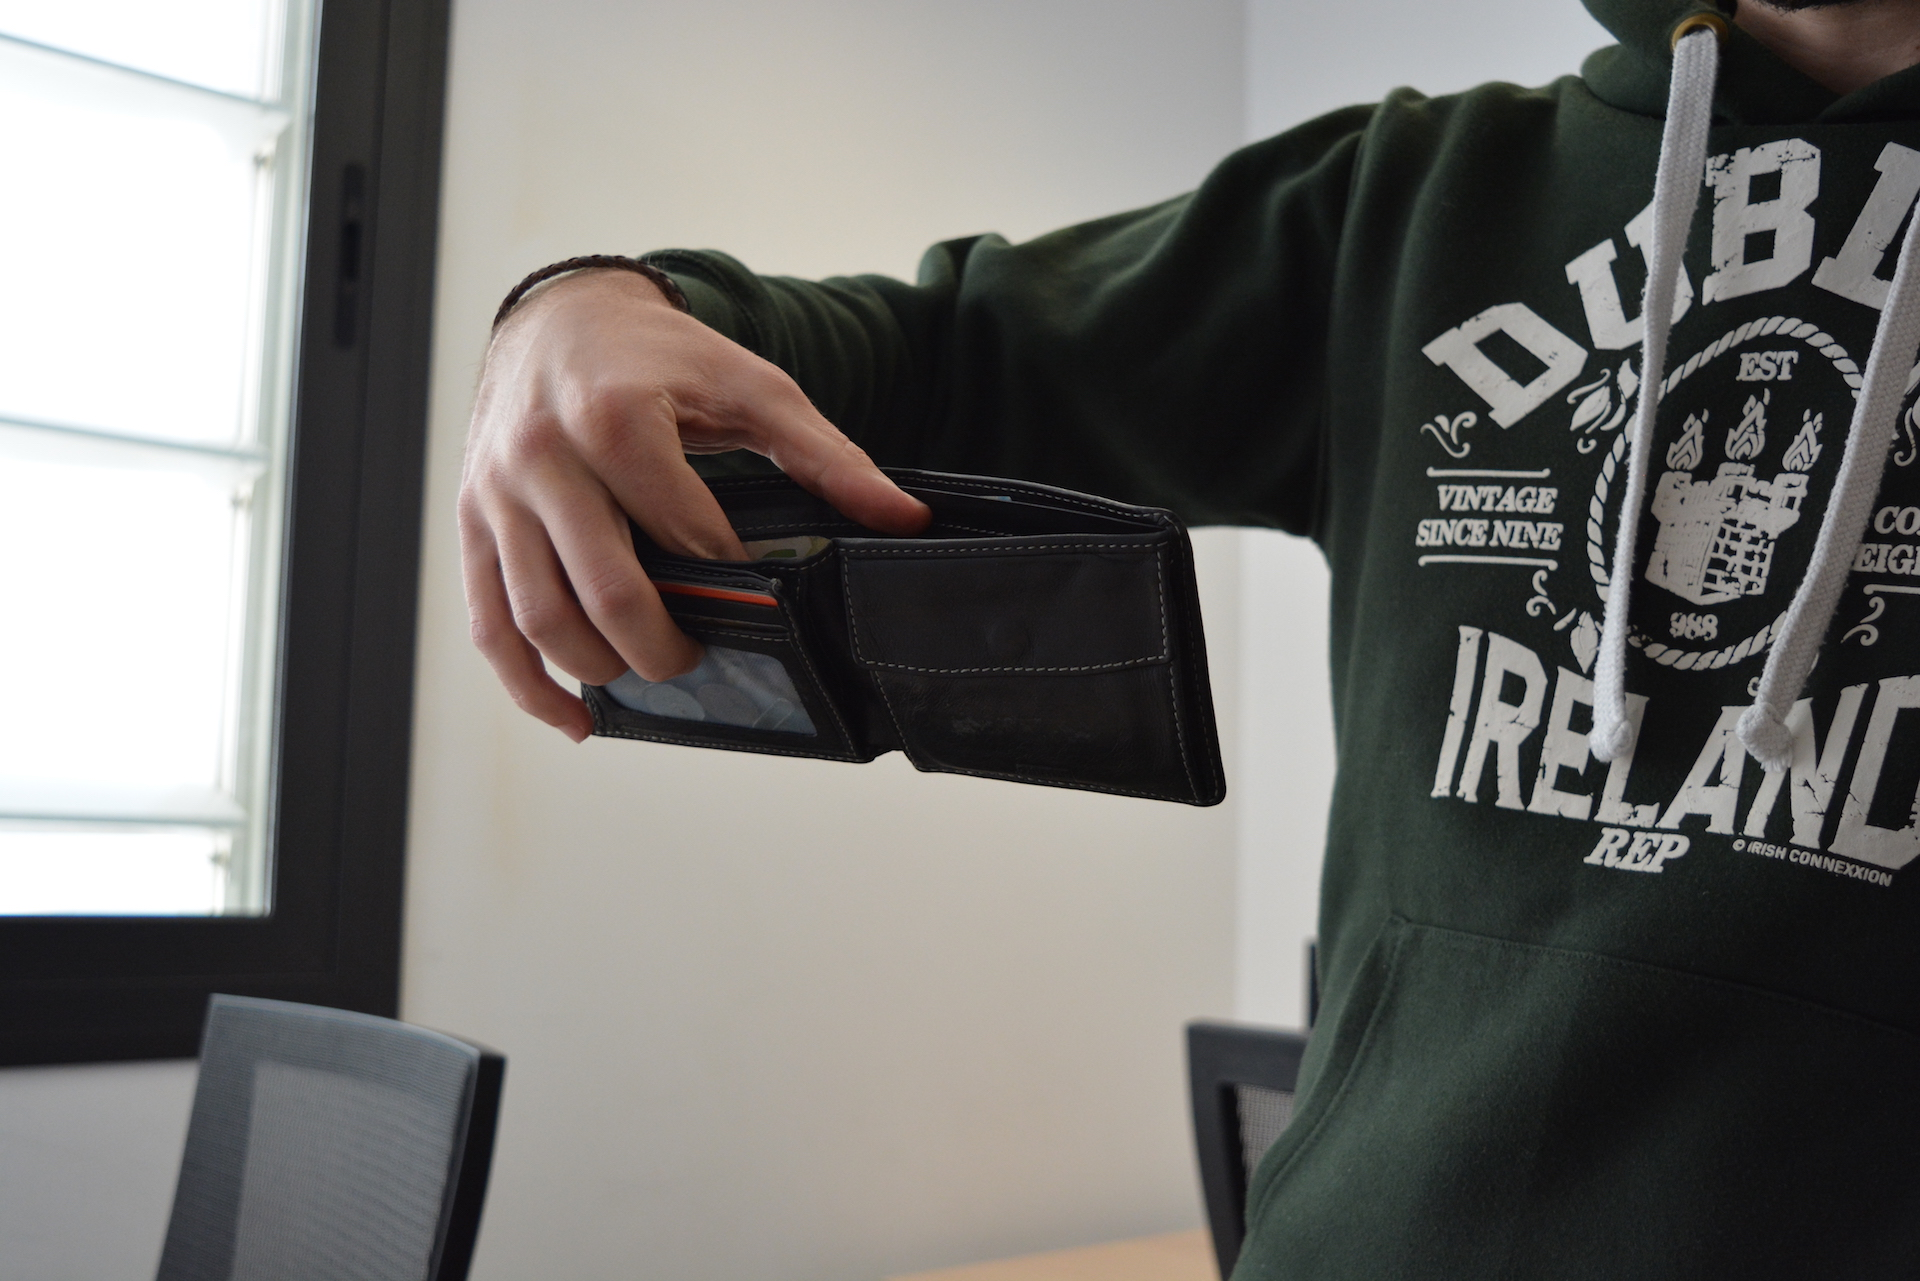monedero: (573, 460, 1229, 809)
